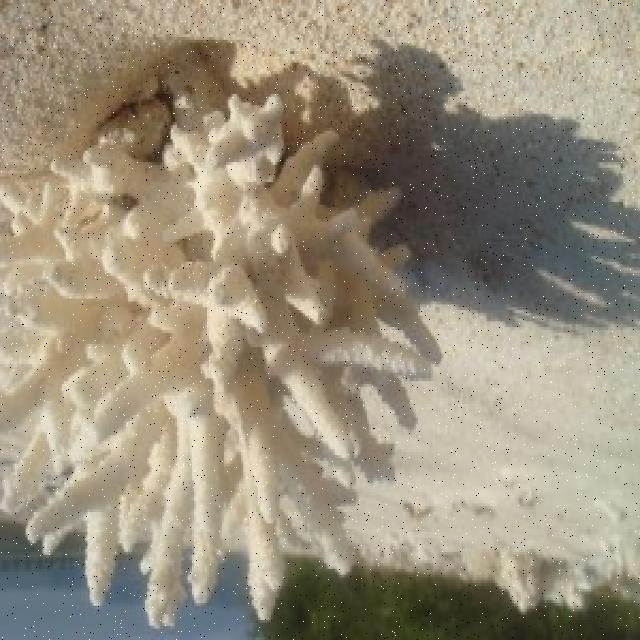Bleached: (1, 81, 436, 633)
